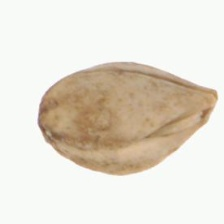L1: (189, 81, 218, 128), (36, 97, 58, 153)
L2: (36, 60, 218, 177)
